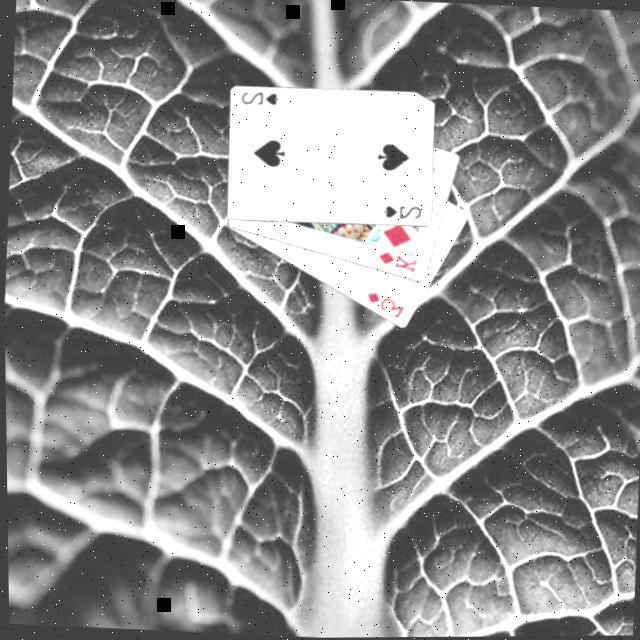2S: (381, 201, 426, 222), (239, 88, 284, 109)
3D: (363, 288, 409, 322)
KD: (376, 248, 422, 276)
